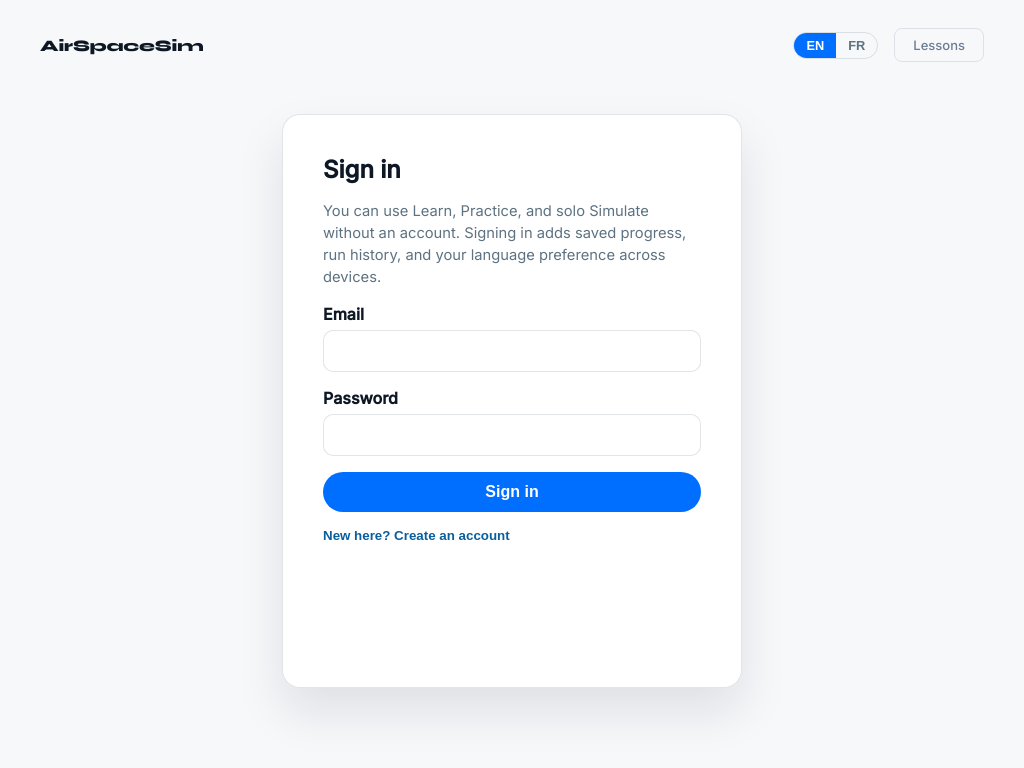
AccountPage › shows a readable error for wrong credentials
Expected: the text "without an account" is shown, [323,202,686,286]
Type "trainee@example.test" into the field labelled "Email" at [512, 351], box [323,330,701,372]
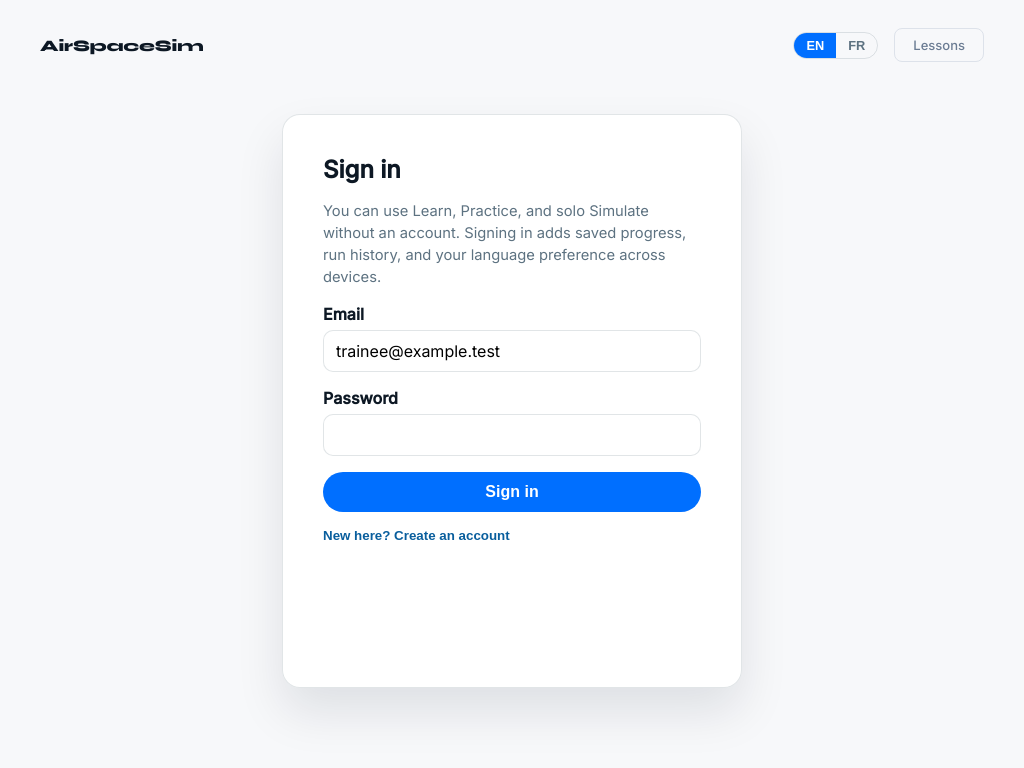
Type "wrong" into the password field labelled "Password" at [512, 435], box [323,414,701,456]
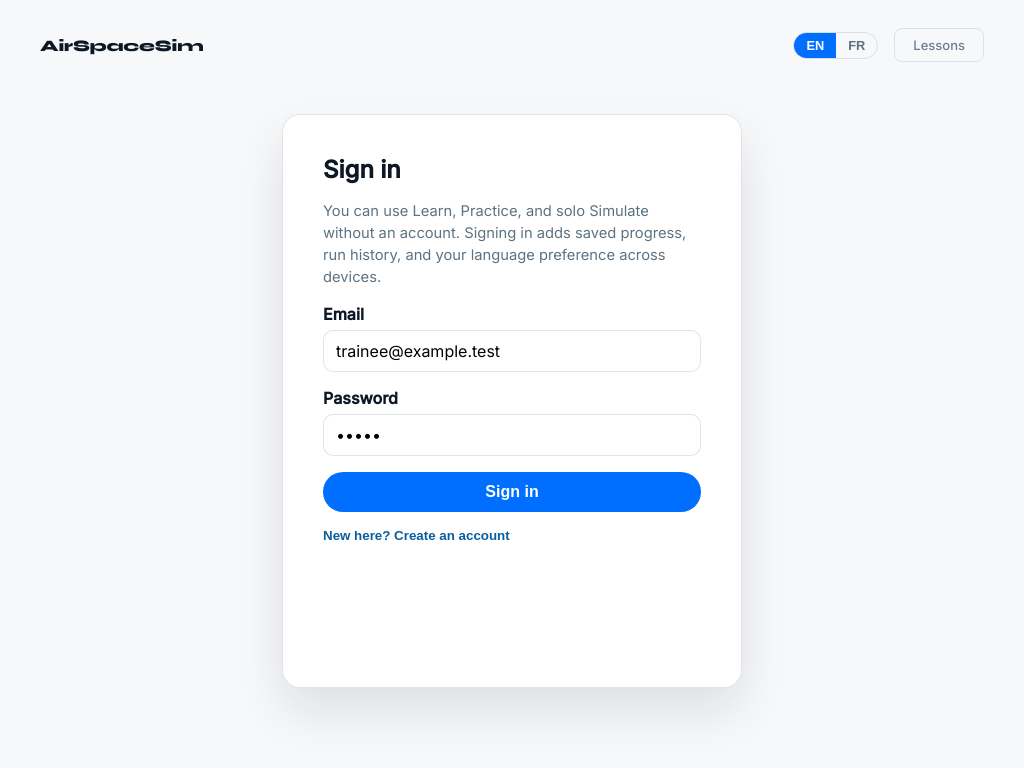
Click the button "Sign in" at [512, 492], box [323,472,701,512]
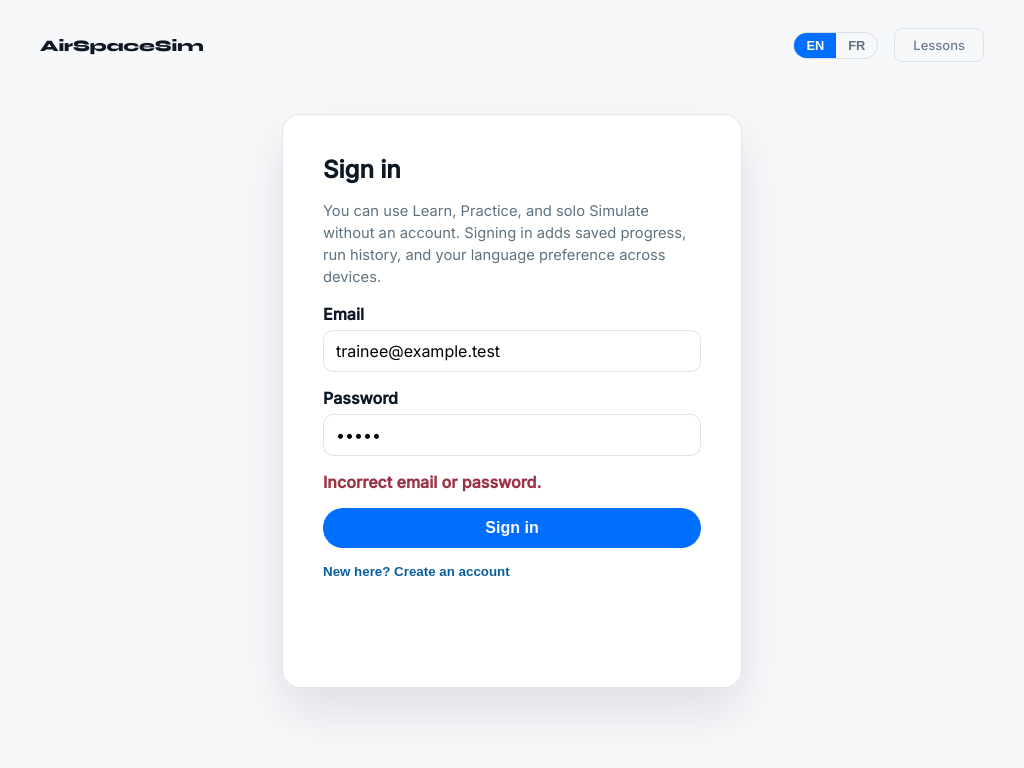
Result: the text "Incorrect email or password." is shown at [323,472,541,492]
